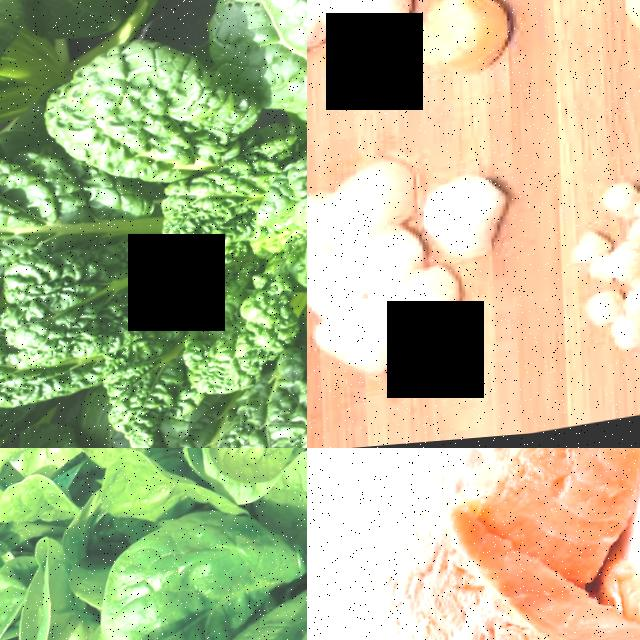sea scallops: (422, 171, 519, 268), (313, 303, 413, 391), (415, 0, 515, 86), (333, 158, 420, 241), (319, 0, 414, 62), (307, 191, 339, 273)
spinach: (97, 520, 238, 640), (211, 0, 307, 129), (0, 573, 25, 640)
